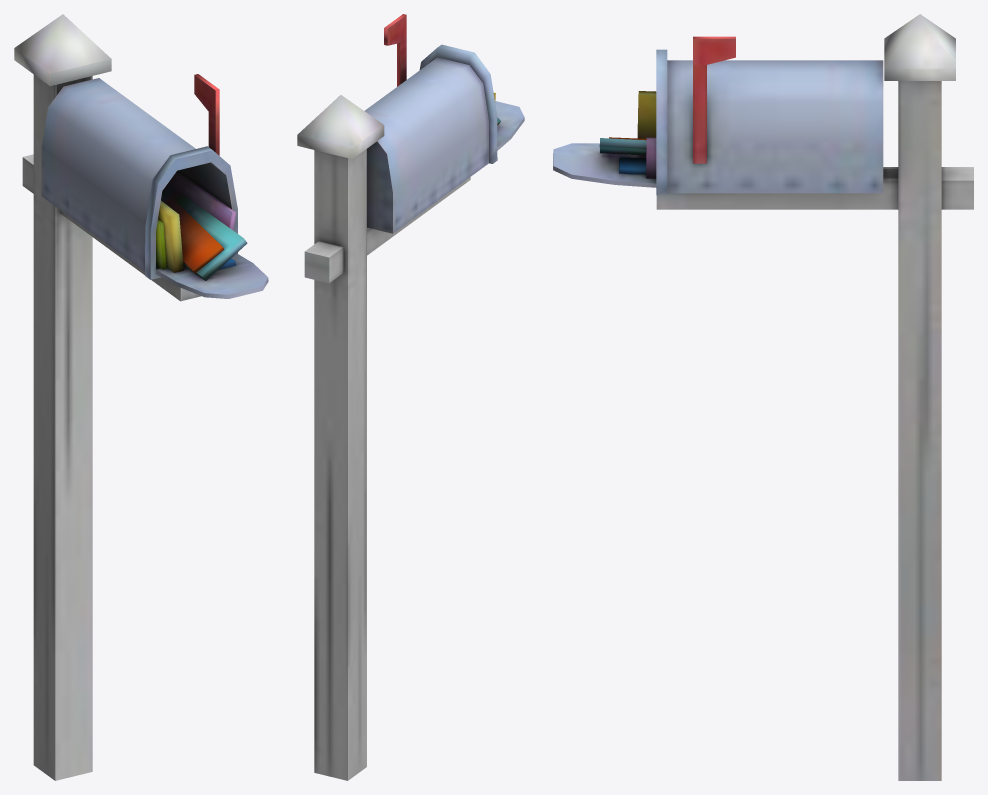
File: Mailbox2.fbx
3 views of the same model, side by side, from view 1: azimuth 30°, elevation 25°; view 2: azimuth 150°, elevation 25°; view 3: azimuth 270°, elevation 25° (orthographic). The views are drawn at different scales.
Parts seen in each view (by area): view 1: MailBox2; view 2: MailBox2; view 3: MailBox2.
Part boxes in pixels (<box>): MailBox2: <box>14,14,268,780</box>; MailBox2: <box>297,14,524,780</box>; MailBox2: <box>553,14,973,780</box>.
Bounding box in the file's own units: 0.1762 × 1.45 × 0.7293.
